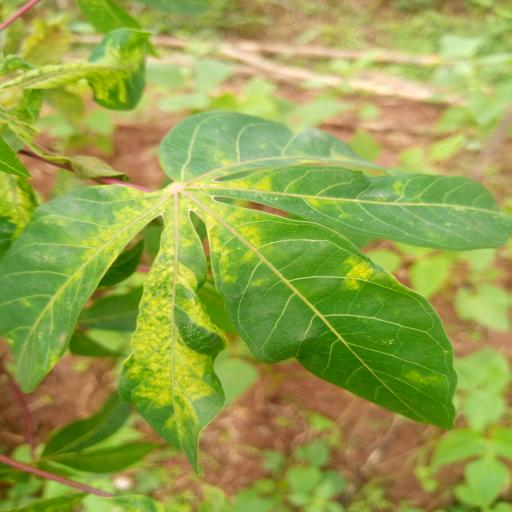Cassava_Mosaic: (0, 114, 512, 478)
